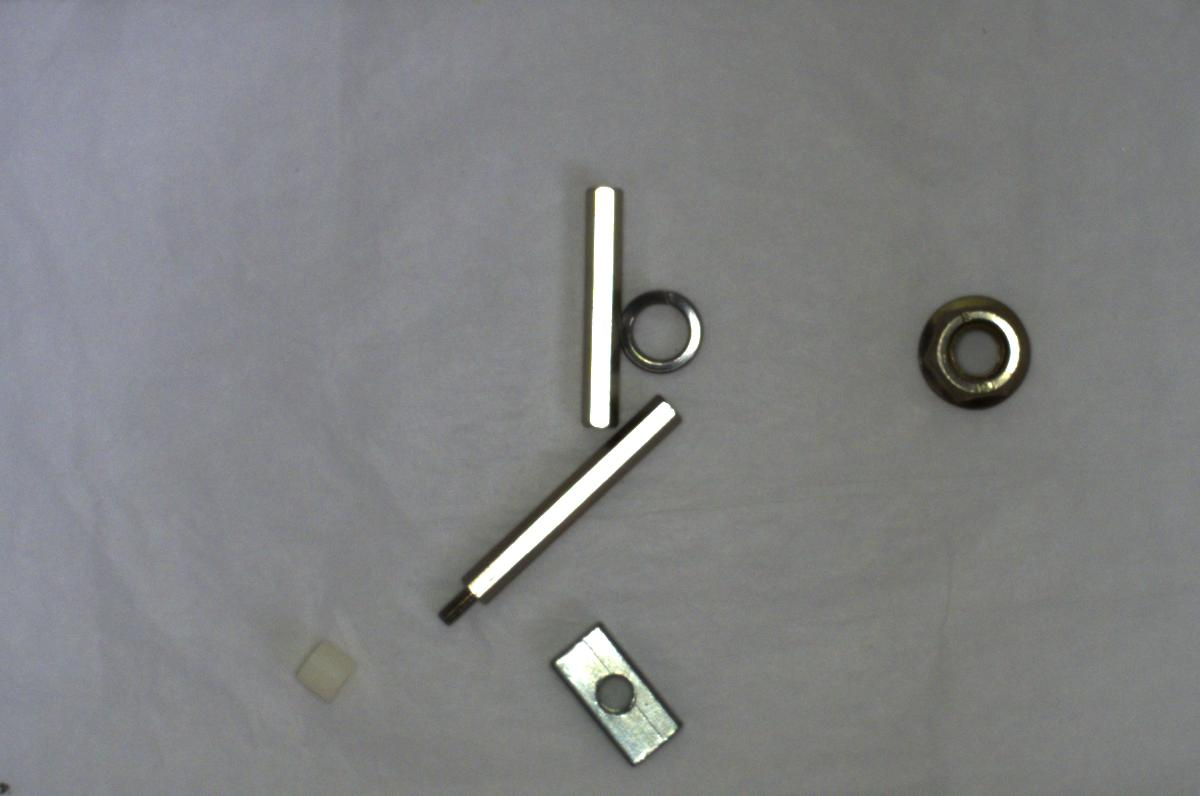Double hexagonal column: (561, 175, 620, 438)
Flange nut: (898, 285, 1035, 410)
Hexagonal steel column: (425, 388, 681, 638)
Plastic cushion pillar: (290, 633, 358, 707)
Rectangular nut: (547, 625, 694, 773)
Spring washer: (624, 279, 707, 378)
